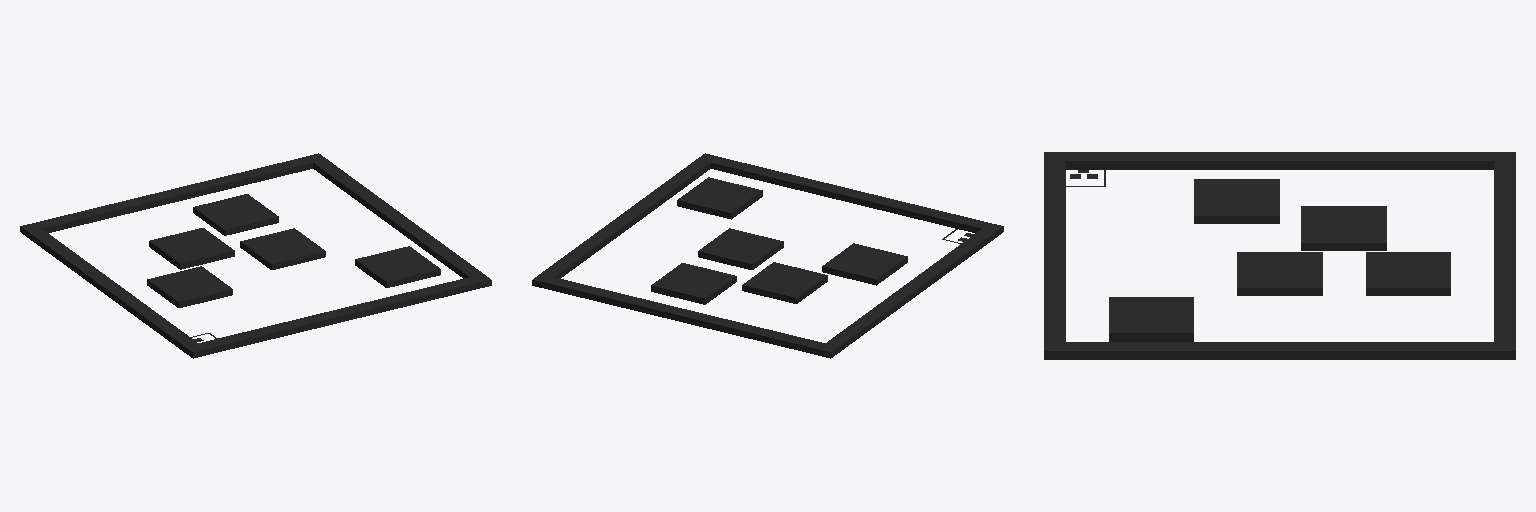
URDF robot description (Room18):
<robot name="Room18">
    <link name="_name">
        <visual> 
            <origin rpy="0.0 0.0 0.0" xyz="-0.5099697614855074 -0.5032655639107612 -0.009999999999999998" />
                <geometry>
                    <mesh filename="Room18/Room18.obj" scale="1 1 0.1" />
                </geometry>

            <material name="black">
                <color rgba="0.2 0.2 0.2 0.95" />
            </material>
        </visual>

       <collision concave="yes" name="collision_0">
            <origin rpy="0.0 0.0 0.0" xyz="-0.5099697614855074 -0.5032655639107612 -0.009999999999999998" />
            <geometry>
                <mesh filename="Room18/Room18_vhacd.obj" scale="1 1 0.1" />
            </geometry>
        </collision>

        <inertial> 
            <mass value="0" />
            <inertia ixx="0" ixy="0" ixz="0" iyy="0" iyz="0" izz="0" />
        </inertial> 
    </link>
</robot>

--- Render facts (derived) ---
3 views of the same robot in one strip: view 1: azimuth 30°, elevation 25°; view 2: azimuth 150°, elevation 25°; view 3: azimuth 270°, elevation 25° (orthographic).
Model Room18 with 1 links and 0 joints (none), rooted at _name, posed all joints at 0.
Visible links, largest first — view 1: _name; view 2: _name; view 3: _name.
Link boxes in pixels (left/top/right/bottom): _name: left=20, top=153, right=491, bottom=358; _name: left=532, top=153, right=1003, bottom=358; _name: left=1044, top=152, right=1515, bottom=359.
Size in the robot's own frame: 1 by 1 by 0.02 metres.
1 mesh visuals loaded from 1 distinct referenced files (1 OBJ).